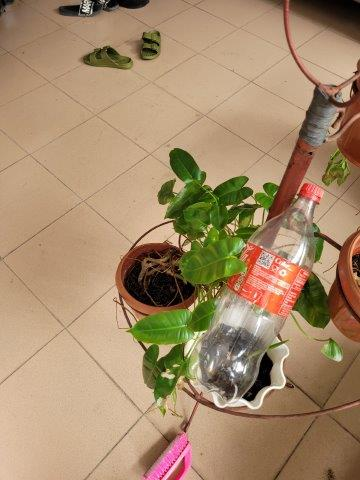botolplastik: (197, 182, 323, 396)
